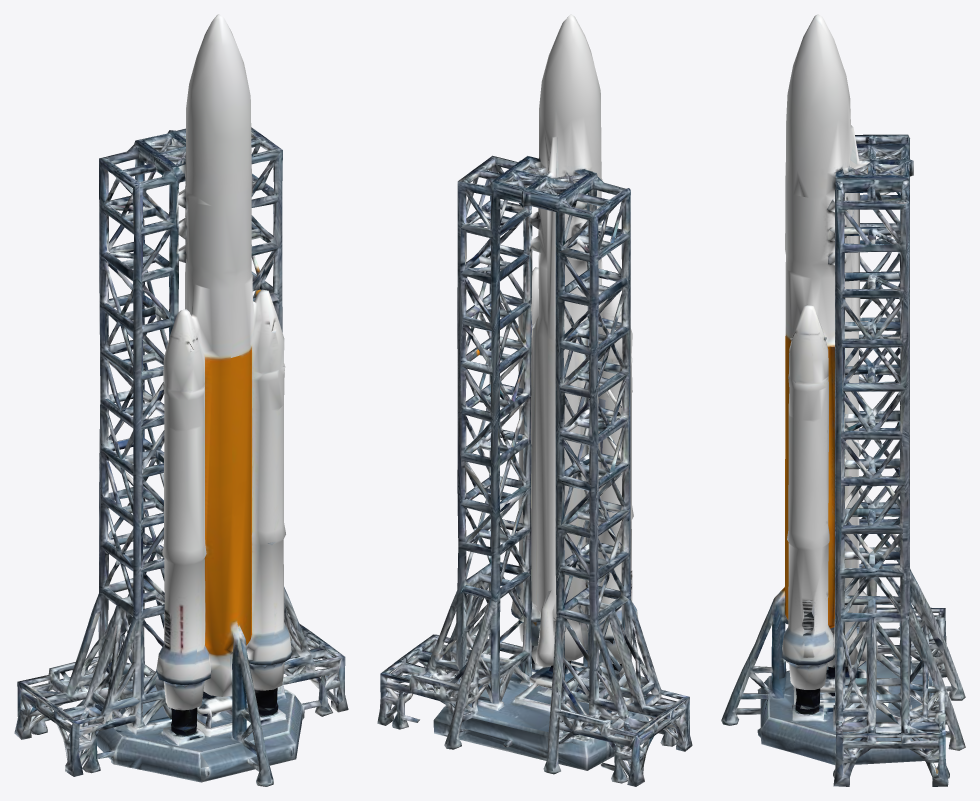
The model's file is rocket.glb.
3 views of the same model, side by side, from view 1: azimuth 30°, elevation 25°; view 2: azimuth 150°, elevation 25°; view 3: azimuth 270°, elevation 25° (orthographic). The views are drawn at different scales.
Visible parts, largest first — view 1: rocket; view 2: rocket; view 3: rocket.
Boxes of the visible parts, box(x1,y1,x2,y2) form: rocket: box(14, 14, 348, 786); rocket: box(377, 14, 692, 786); rocket: box(721, 14, 965, 786).
Bounding box in the file's own units: 0.3924 × 1 × 0.3132.
1 material, 1 textured.
